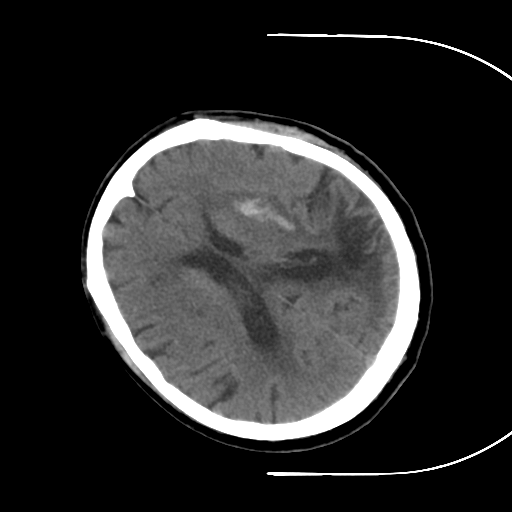a: (205, 175, 318, 254)
